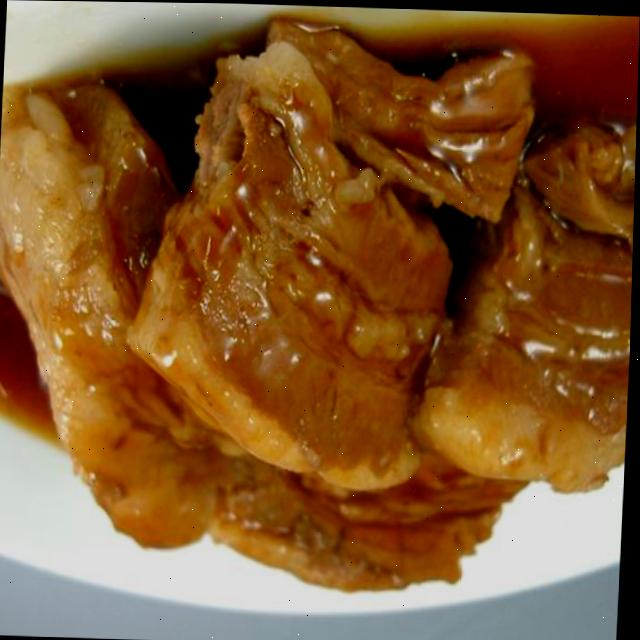猪肉菜式: (0, 135, 637, 633)
